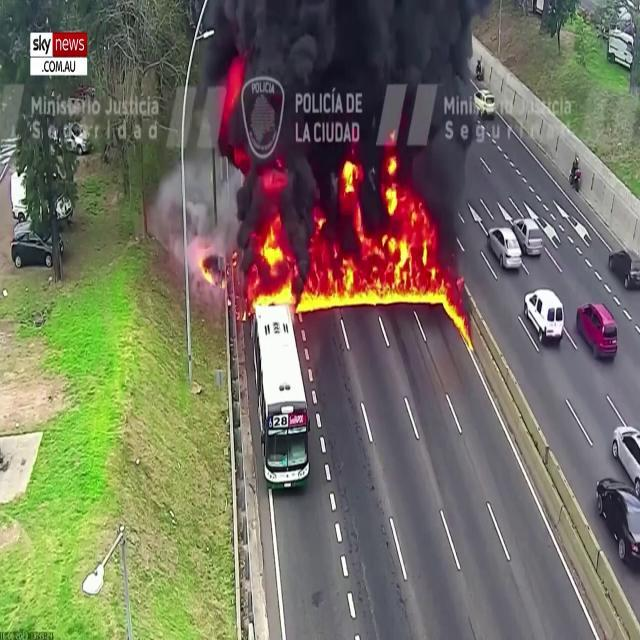Fire: (250, 162, 462, 312)
Smoke: (204, 0, 481, 244)
